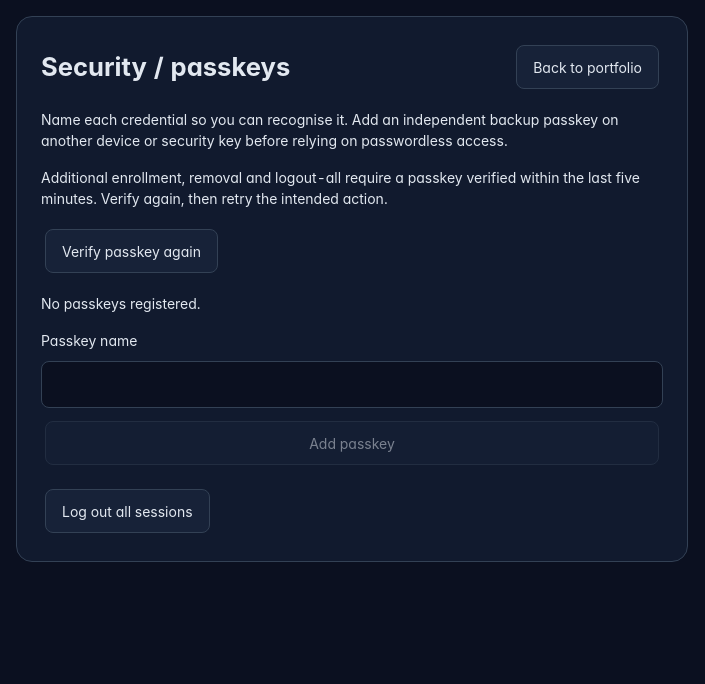
Test: does not claim logout-all succeeded or lock the session on a rejected revocation
This screenshot has width=705, height=684.
Expected: the text "No passkeys registered." is shown, [41,295,201,312]
Click the button "Log out all sessions" at (127, 511), box [45,489,210,533]
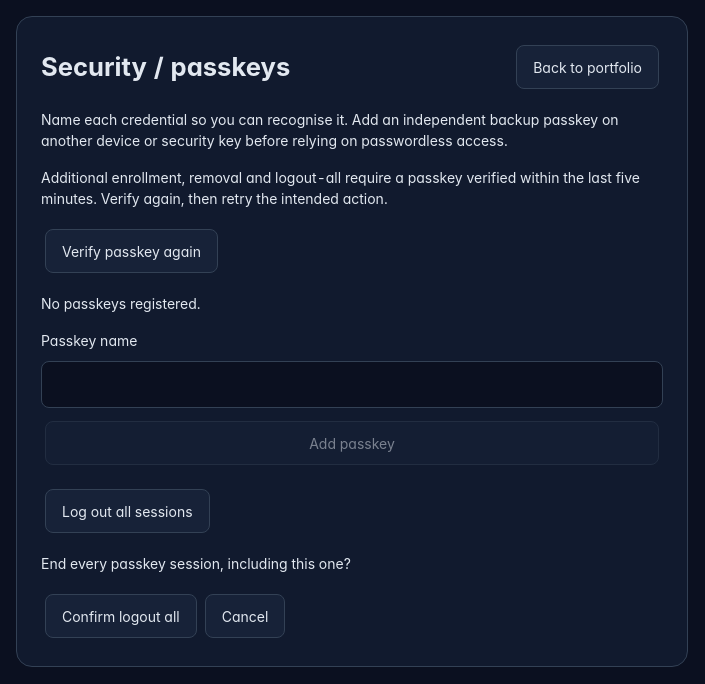
Click the button "Confirm logout all" at (121, 616), box [45,594,197,638]
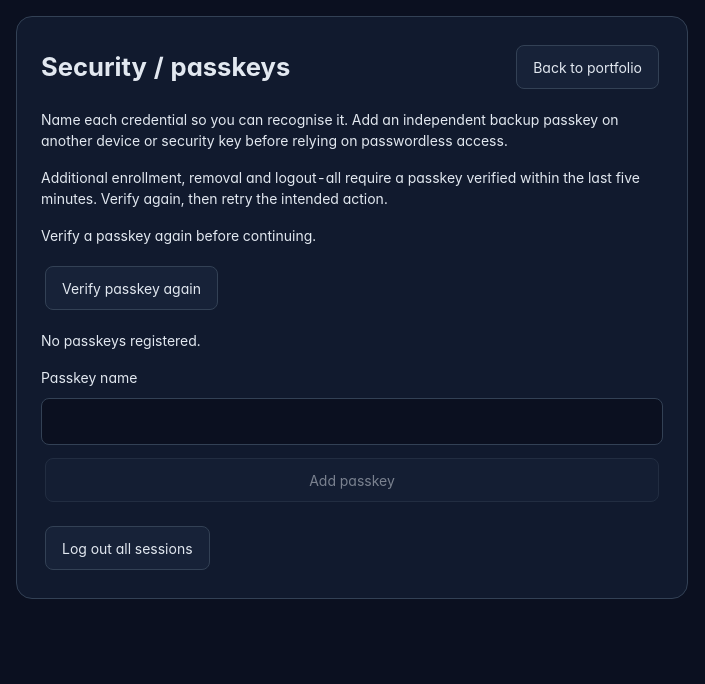
Expected: the heading "Security / passkeys" is shown, [41,48,290,86]
Expected: the message shows "Verify a passkey again", [41,227,316,244]
